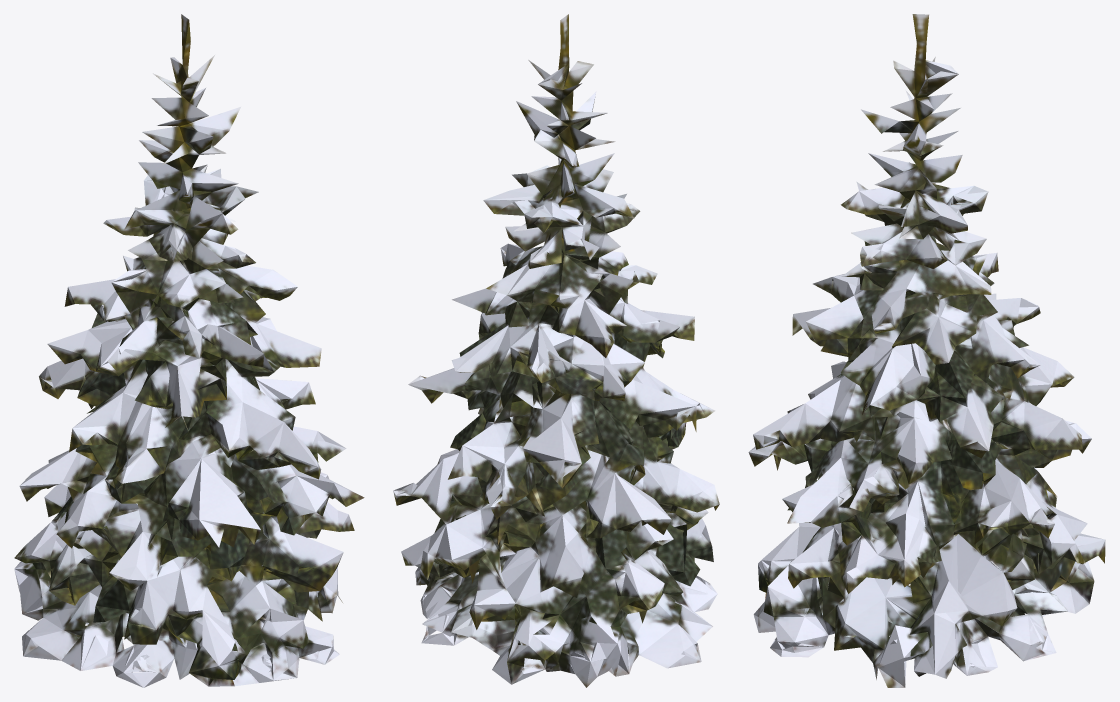
Rendered from fir_young.obj.
3 renders of one model, left to right at view 1: azimuth 30°, elevation 25°; view 2: azimuth 150°, elevation 25°; view 3: azimuth 270°, elevation 25°, orthographic.
Parts seen in each view (by area): view 1: fir_young; view 2: fir_young; view 3: fir_young.
Boxes of the visible parts, left/top/right/bottom form: fir_young: left=14, top=14, right=364, bottom=687; fir_young: left=393, top=14, right=719, bottom=687; fir_young: left=748, top=14, right=1105, bottom=687.
Bounding box in the file's own units: 1.51 × 3 × 1.59.
1 material, 1 textured.
